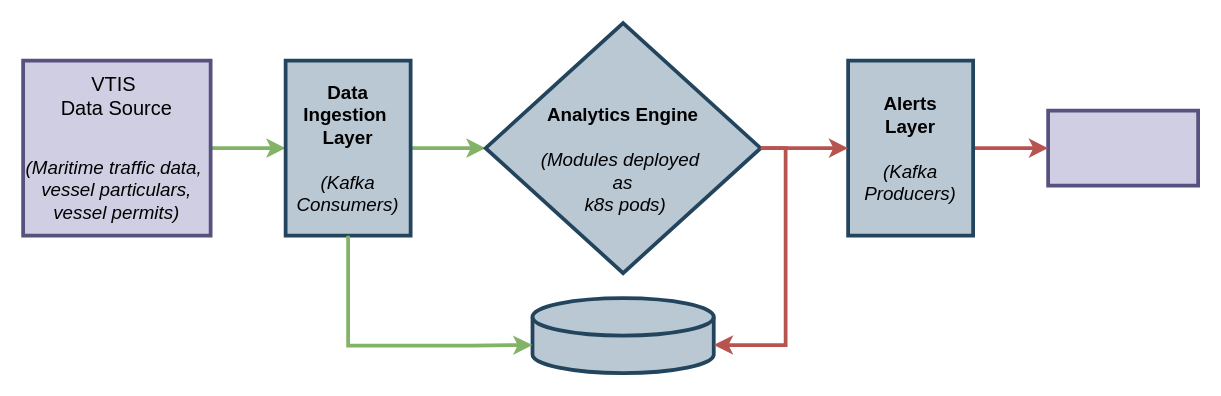
Image size: 1221x396. Some labels were removed from this diagram. The box of each missing label's shape, as (x1, y1, x2, y2) in pixels:
Persistence Store: (530, 296, 715, 374)
Port Operations Control User Interface: (1046, 108, 1199, 187)
